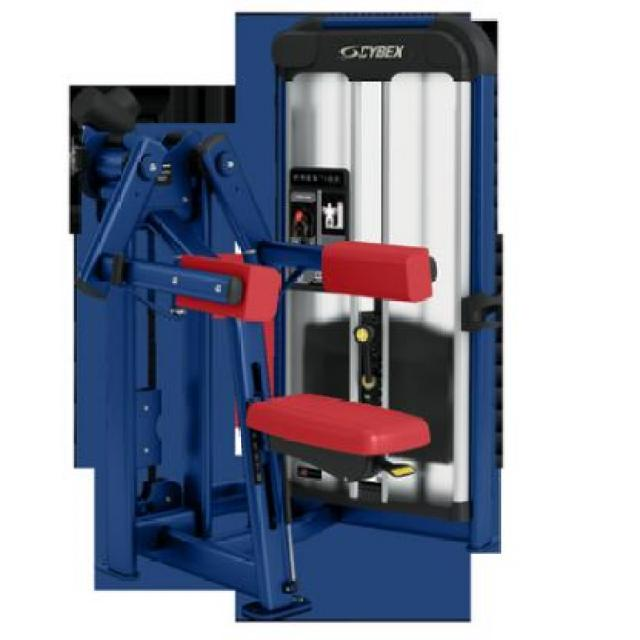lateral raises machine: (69, 14, 505, 623)
